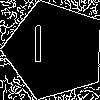I: (30, 25, 46, 72)
